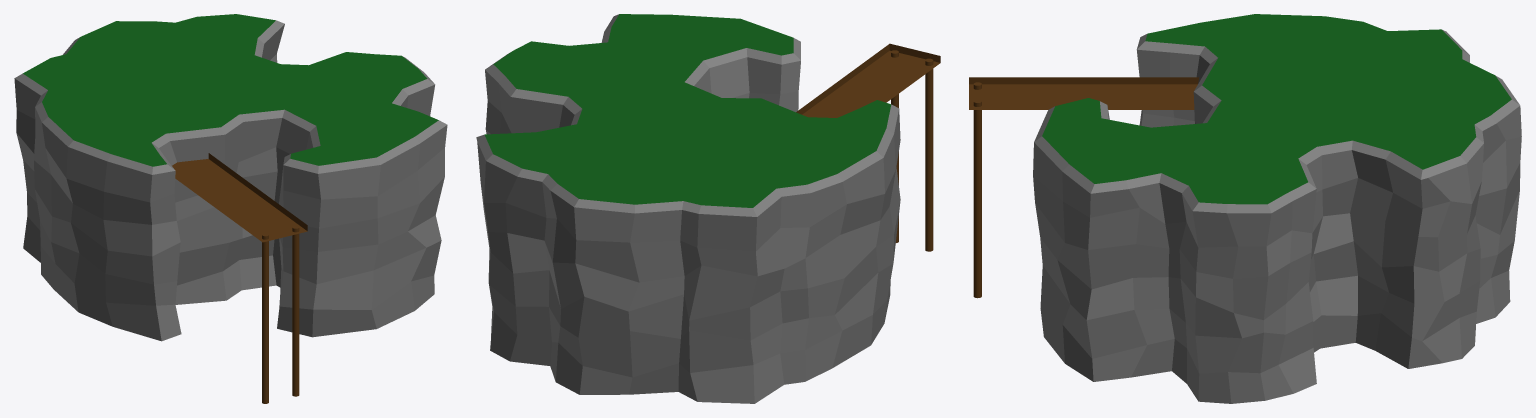
The model's file is island-1.glb.
3 renders of one model, left to right at view 1: azimuth 30°, elevation 25°; view 2: azimuth 150°, elevation 25°; view 3: azimuth 270°, elevation 25°, orthographic. The views are drawn at different scales.
Visible parts, largest first — view 1: Plane, Cube, Cylinder.001, Cylinder; view 2: Plane, Cube, Cylinder; view 3: Plane, Cube, Cylinder.001.
Boxes of the visible parts, x1,y1,x2,y2 form: Plane: [14, 14, 447, 341]; Cube: [172, 153, 307, 242]; Cylinder.001: [292, 225, 299, 396]; Cylinder: [262, 233, 268, 403]; Plane: [476, 14, 900, 403]; Cube: [796, 43, 940, 117]; Cylinder: [925, 58, 933, 251]; Plane: [1033, 14, 1521, 403]; Cube: [969, 77, 1199, 109]; Cylinder.001: [973, 99, 981, 298].
Bounding box in the file's own units: 1.75 × 0.9314 × 2.07.
